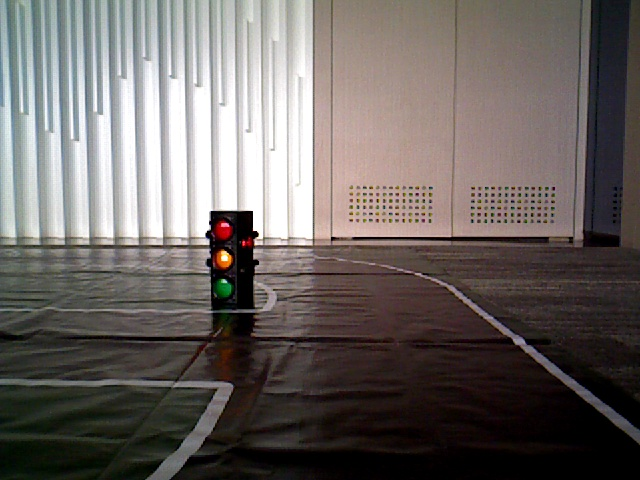yellow: (209, 213, 236, 300)
